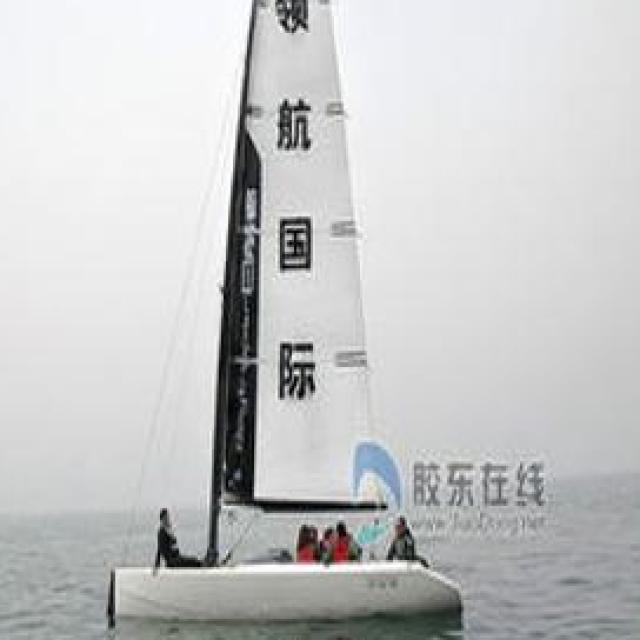sailboat: (106, 0, 485, 628)
